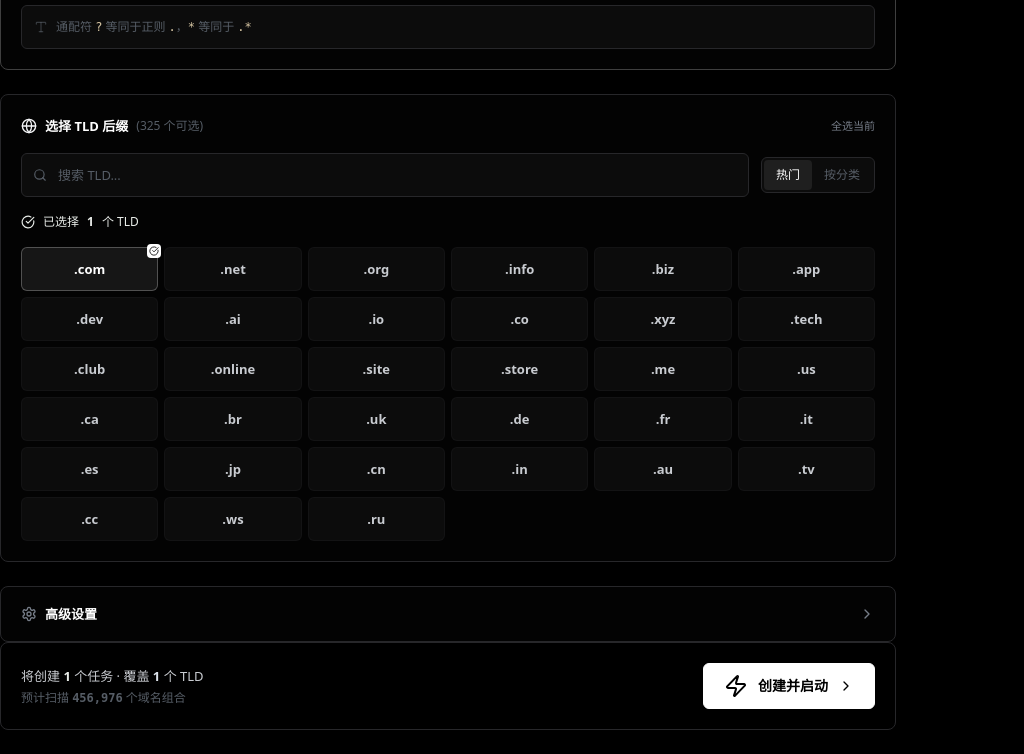
Scenario: NewTask proxy selection › allows selecting an offline proxy and shows a warning
The image size is (1024, 754).
(page scrolled)
Click the text "高级设置".
click(59, 614)  # box [21, 603, 97, 625]
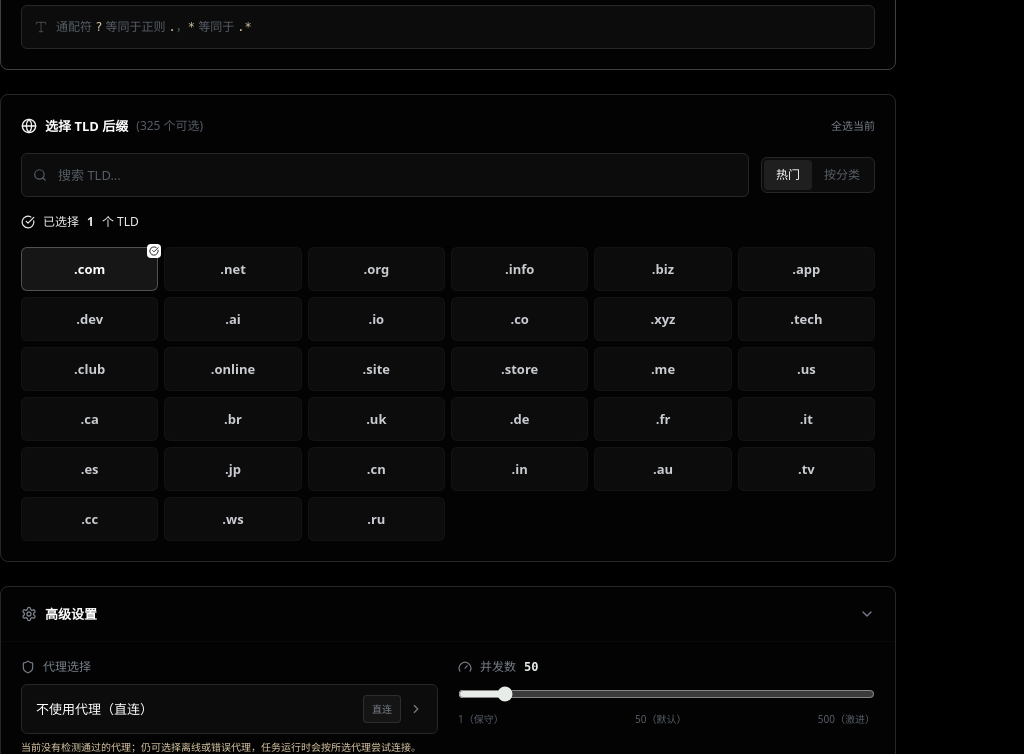
Click the dropdown named "代理选择".
click(95, 709)  # box [21, 684, 438, 734]
(page scrolled)
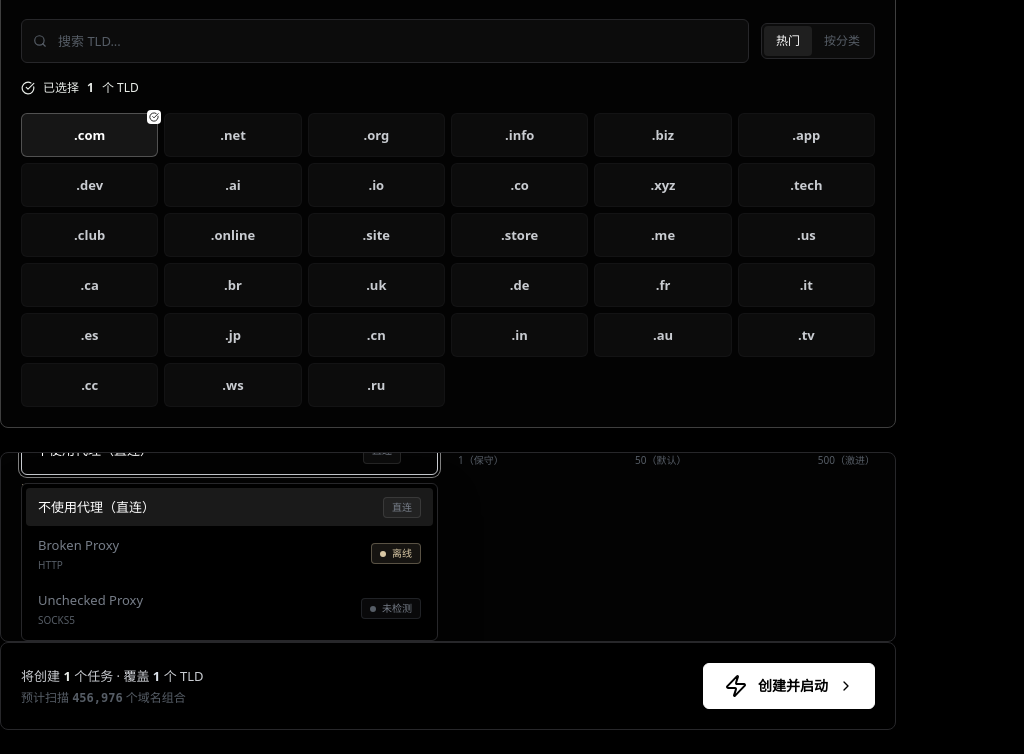
Check: the list named "代理选项" is shown, box [21, 483, 438, 641]
Check: the option "Broken Proxy http 离线" is shown
Click the option "Broken Proxy http 离线".
click(79, 545)  # box [26, 526, 433, 581]
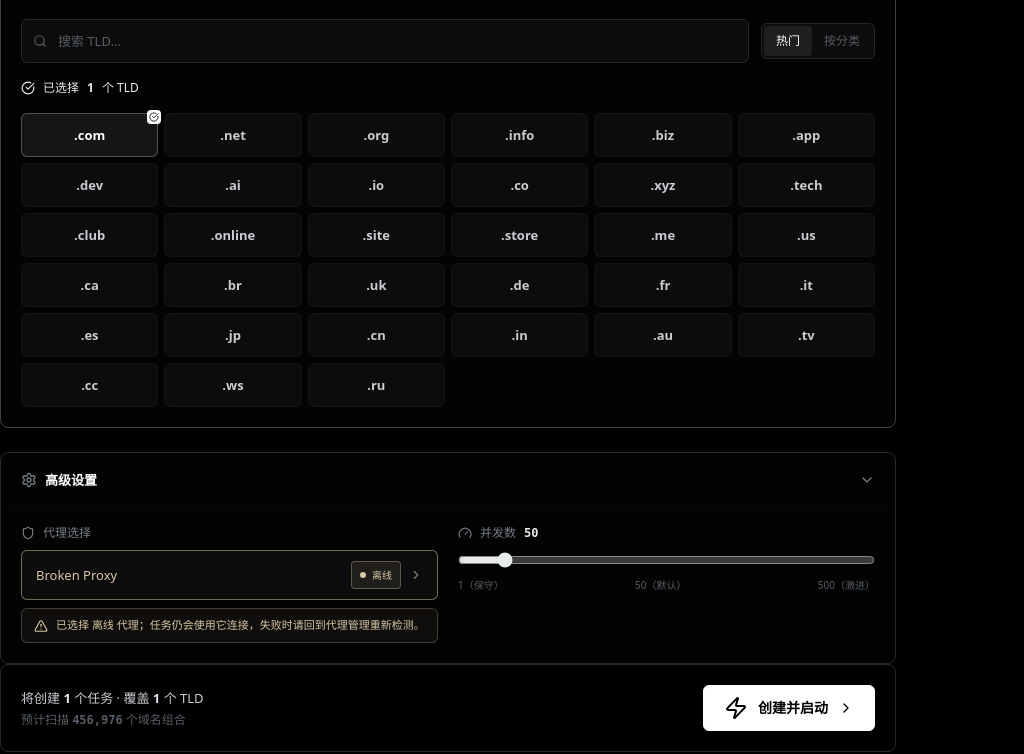
Check: the dropdown labelled "Broken Proxy 离线" is shown, box [21, 550, 438, 600]
Check: the text "已选择 离线 代理；任务仍会使用它连接，失败时请回到代理管理重新检测。" is shown, box [56, 617, 425, 634]
